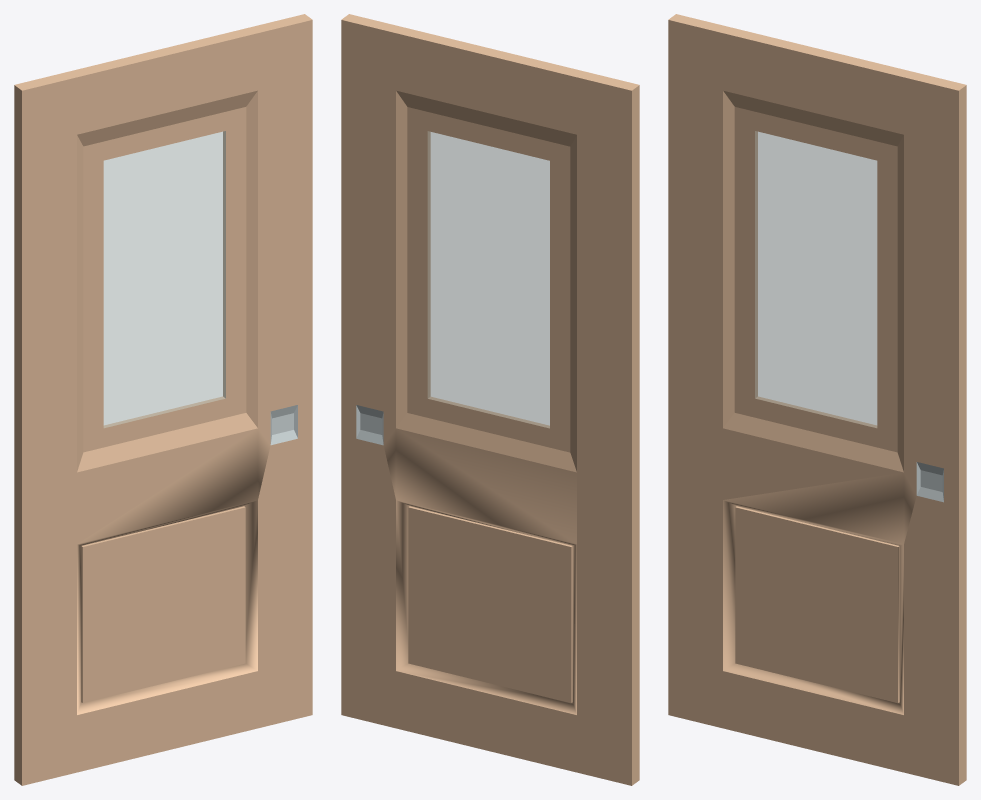
Rendered from porta-sliding-vetro.glb.
The picture shows the model from 3 angles, left to right: view 1: azimuth 30°, elevation 25°; view 2: azimuth 150°, elevation 25°; view 3: azimuth 330°, elevation 25°; orthographic projection.
Parts seen in each view (by area): view 1: door, door-glass; view 2: door, door-glass; view 3: door, door-glass.
Part boxes in pixels (box(x1,y1,x2,y2)): door: box(14, 14, 312, 785); door-glass: box(103, 131, 225, 427); door: box(341, 14, 639, 785); door-glass: box(427, 131, 549, 428); door: box(668, 14, 966, 785); door-glass: box(755, 131, 877, 427).
Bounding box in the file's own units: 0.4293 × 0.9812 × 0.0204.
